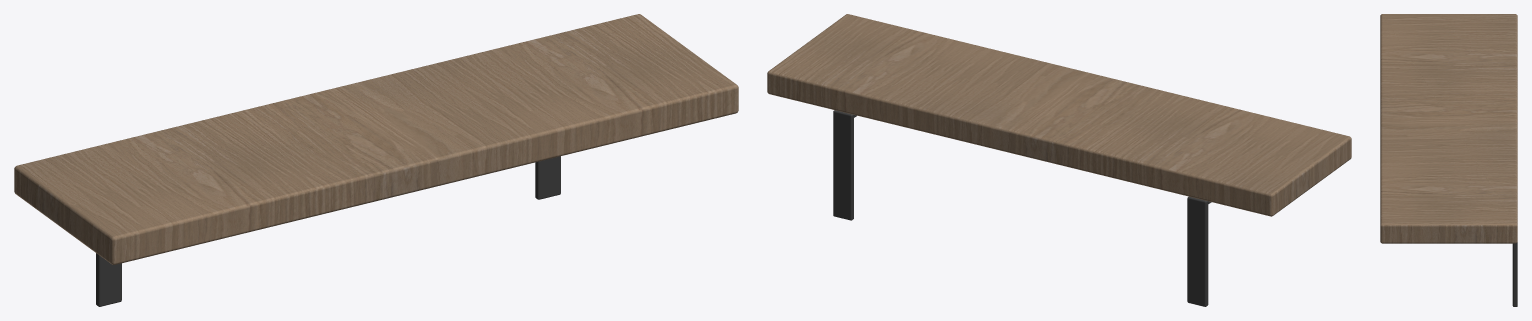
File: wall_shelf_oak.gltf
3 views of the same model, side by side, from view 1: azimuth 30°, elevation 25°; view 2: azimuth 150°, elevation 25°; view 3: azimuth 270°, elevation 25° (orthographic). The views are drawn at different scales.
Parts seen in each view (by area): view 1: oak_veneer, black_metal; view 2: oak_veneer, black_metal; view 3: oak_veneer, black_metal.
Part boxes in pixels (bbox=[...]): oak_veneer: bbox=[14, 14, 738, 264]; black_metal: bbox=[96, 156, 560, 306]; oak_veneer: bbox=[767, 14, 1351, 216]; black_metal: bbox=[833, 110, 1211, 306]; oak_veneer: bbox=[1380, 14, 1517, 243]; black_metal: bbox=[1512, 242, 1517, 306].
Bounding box in the file's own units: 0.8 × 0.195 × 0.22.
Materials: 2 (1 with a texture image).
